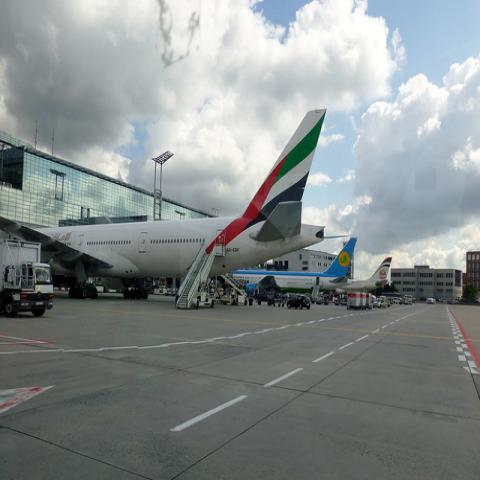car: (287, 296, 311, 310), (372, 299, 388, 309), (426, 295, 436, 304), (438, 297, 448, 302)
truck: (0, 238, 53, 317)
